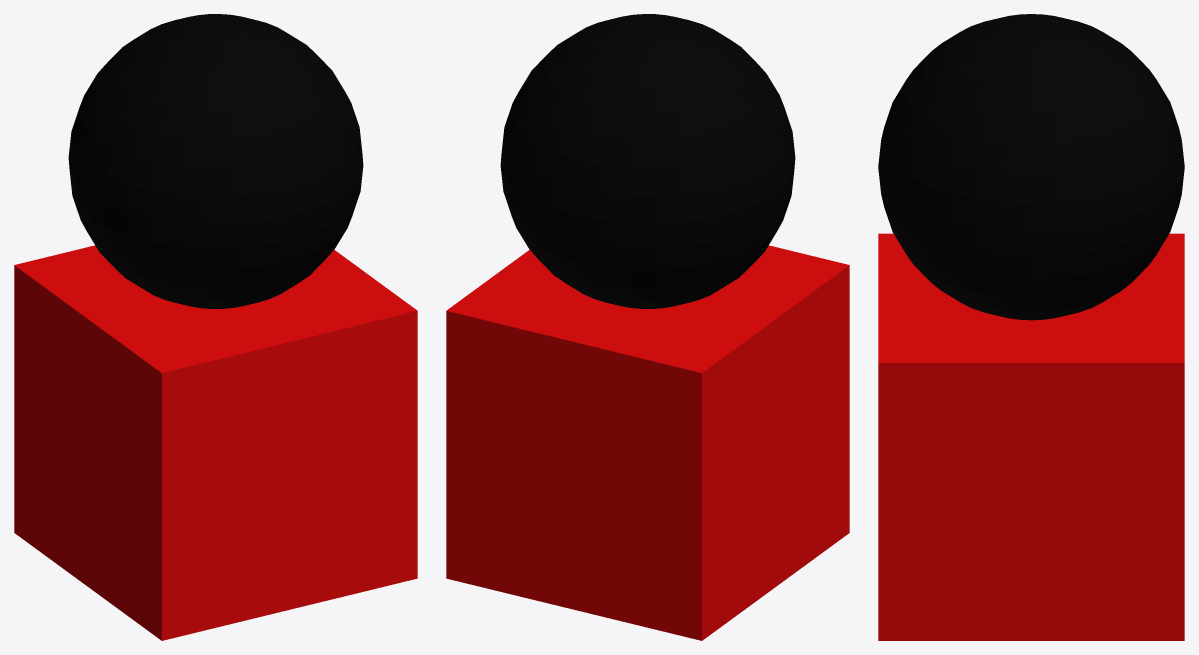
Rendered from practice02.glb.
The picture shows the model from 3 angles, left to right: view 1: azimuth 30°, elevation 25°; view 2: azimuth 150°, elevation 25°; view 3: azimuth 270°, elevation 25°; orthographic projection. The views are drawn at different scales.
Parts seen in each view (by area): view 1: Cube, 球; view 2: Cube, 球; view 3: Cube, 球.
Boxes of the visible parts, <box> form: Cube: <box>14,245,417,640</box>; 球: <box>68,14,363,308</box>; Cube: <box>446,245,849,640</box>; 球: <box>500,14,795,308</box>; Cube: <box>878,233,1184,640</box>; 球: <box>878,14,1184,320</box>.
Size of the model in its own units: 2 by 3.94 by 2.
